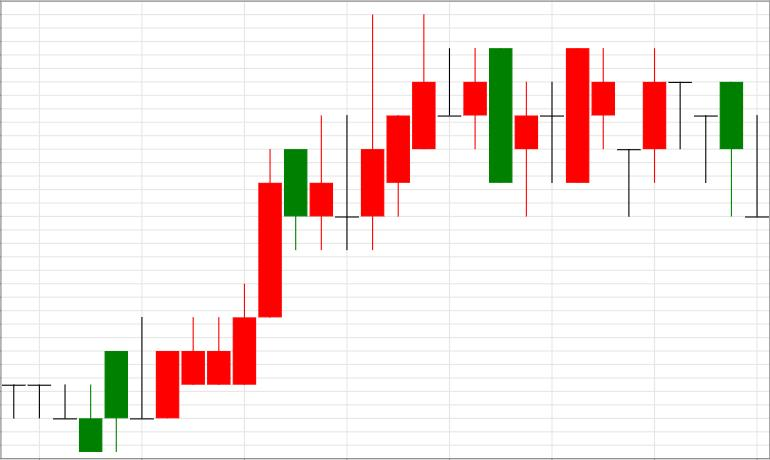bearish_engulfing_fall: (156, 15, 512, 419)
